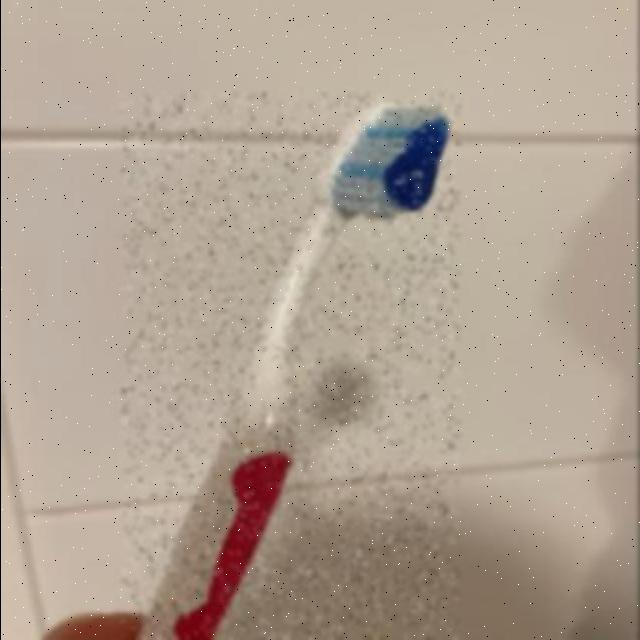toothbrush: (124, 92, 460, 640)
